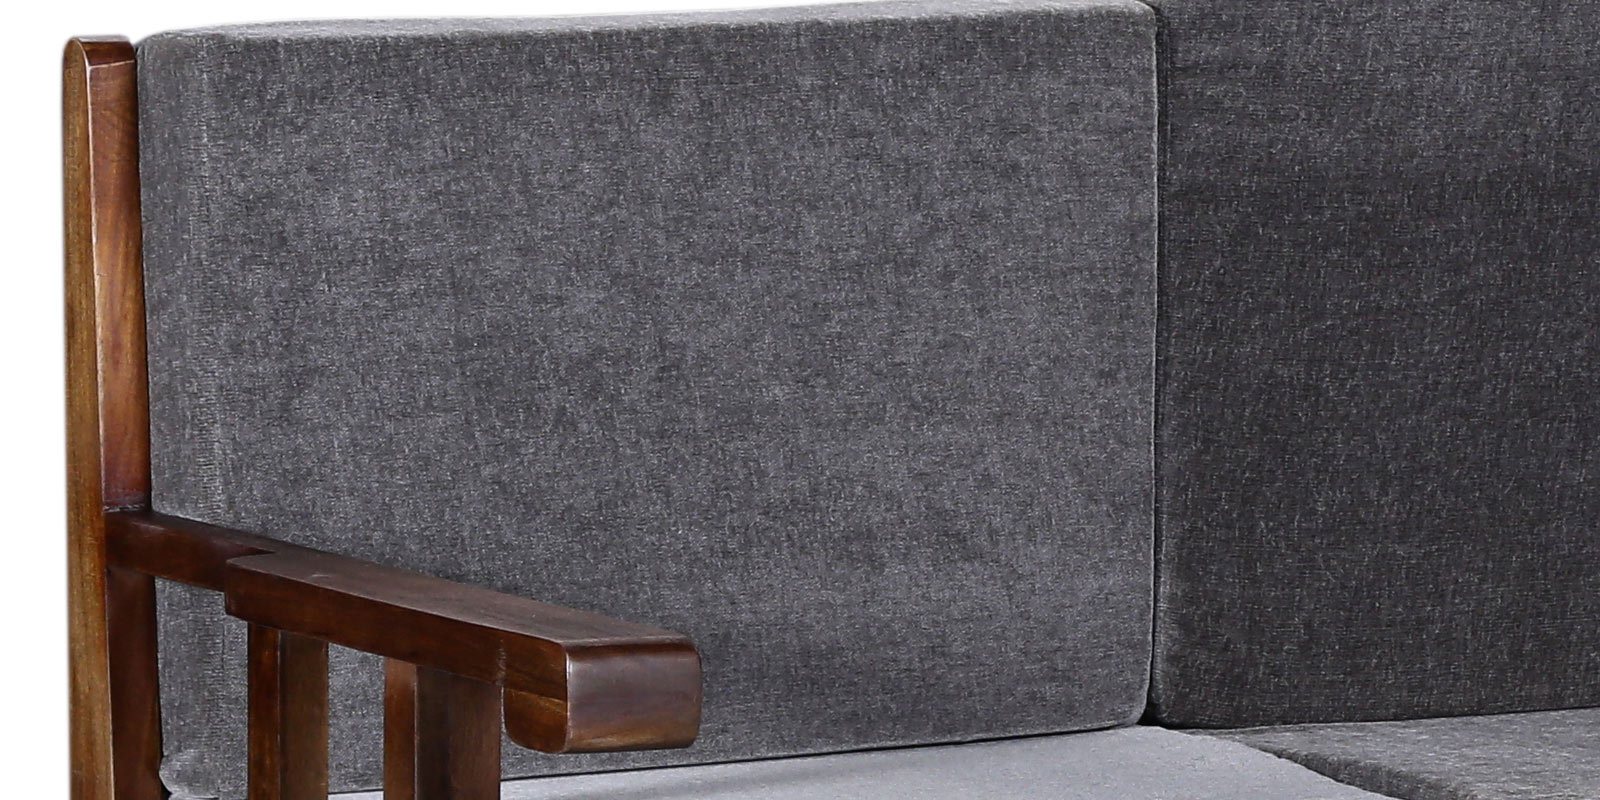Corvallis Three Seater Sofa in Provincial Teak Finish by Woodsworth: (34, 14, 1319, 800)
